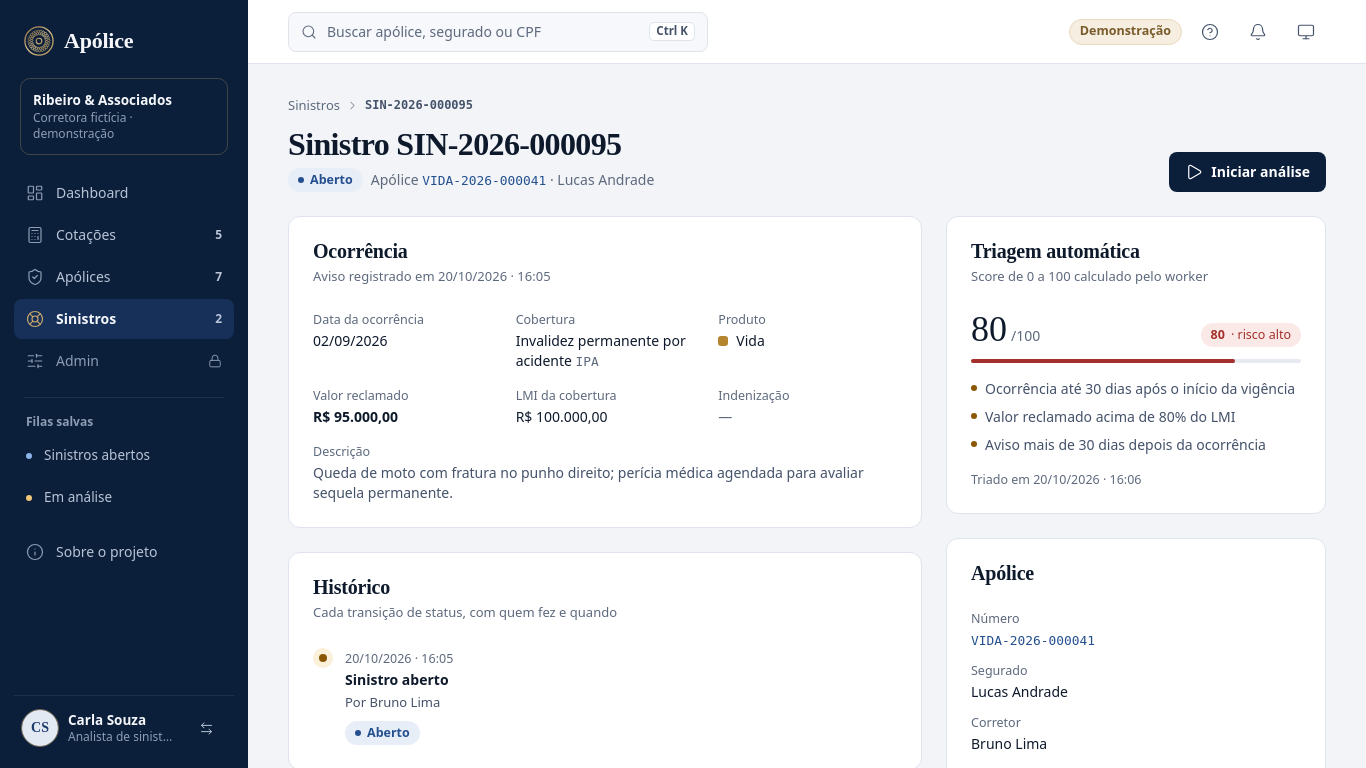
Test case: sessão e erros da API › deve transformar o erro de uma ação em toast com o ID de correlação
The image size is (1366, 768).
Click the button "Iniciar análise" at [1248, 172], box [1169,152,1326,192]
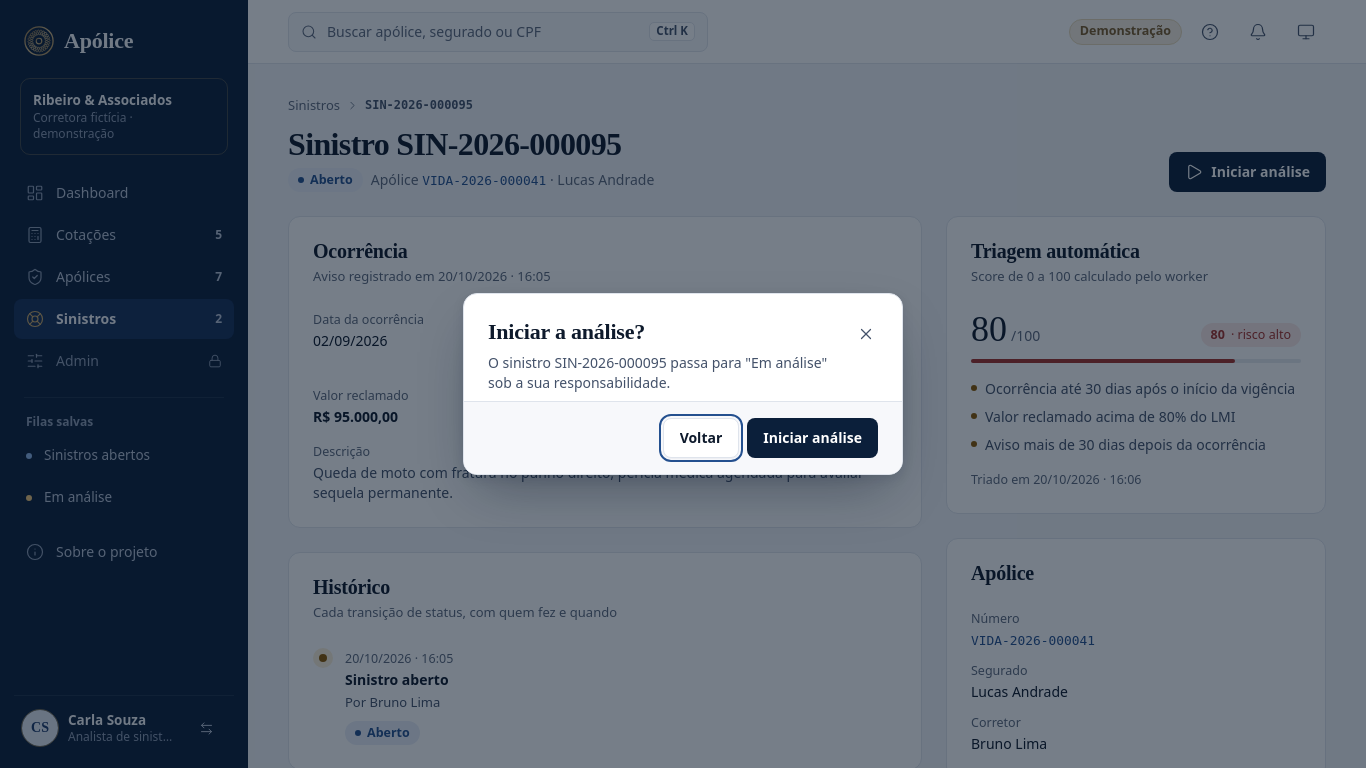
Click the button "Iniciar análise" at [813, 438], box [747,418,878,458]
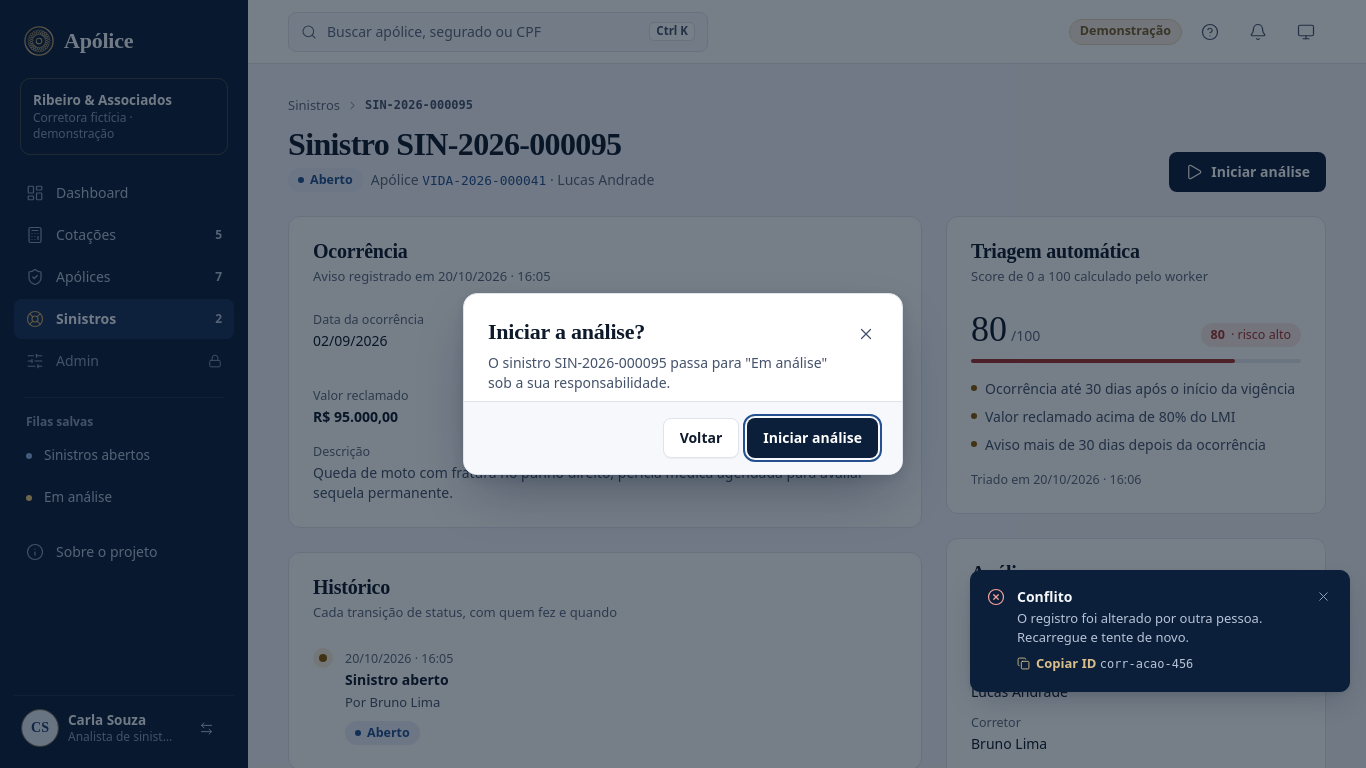
Now the text "O registro foi alterado por outra pessoa. Recarregue e tente de novo." is shown, box [1017,608,1291,648]
Now the button "Copiar ID corr-acao-456" is shown, box [1017,654,1193,673]
